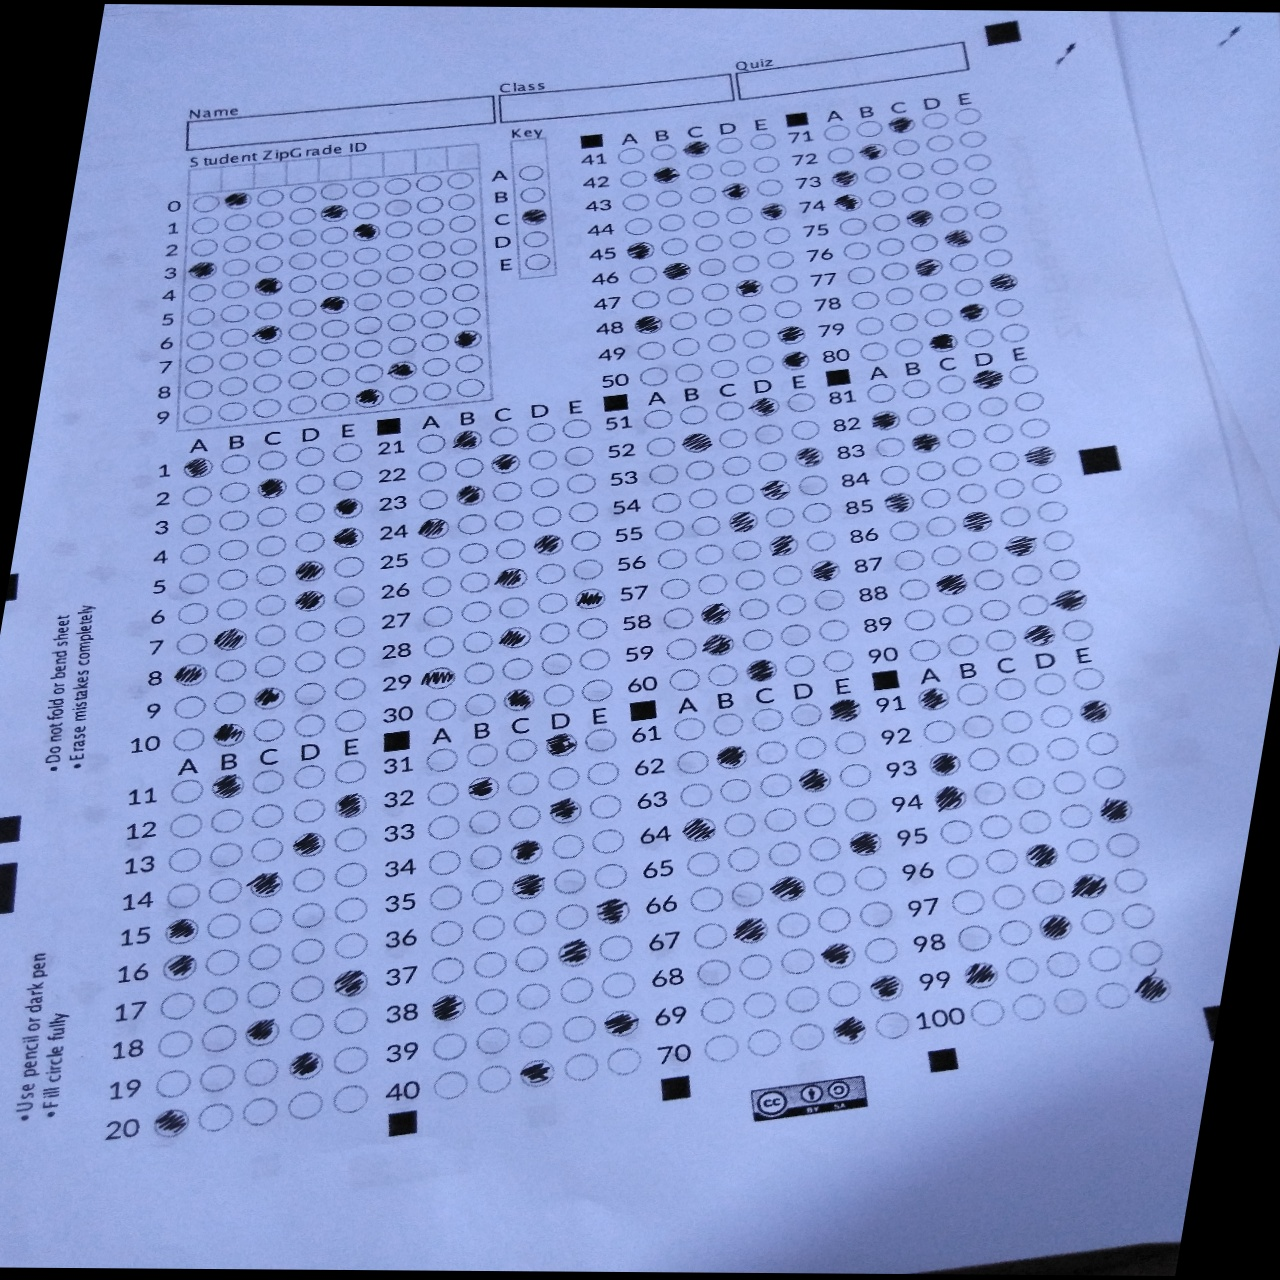not-c: (1081, 942, 1129, 975), (961, 998, 1008, 1030), (1125, 937, 1173, 968), (1085, 980, 1133, 1012), (1002, 990, 1050, 1022), (688, 958, 735, 989), (952, 922, 999, 954), (501, 802, 549, 832), (282, 973, 331, 1003), (693, 994, 741, 1024), (734, 988, 782, 1019), (776, 983, 824, 1014), (821, 976, 869, 1007), (1046, 987, 1094, 1017), (693, 1033, 741, 1063), (738, 1028, 787, 1058), (468, 912, 515, 942), (462, 878, 509, 908), (463, 842, 510, 872), (510, 944, 557, 974), (284, 938, 331, 968), (329, 1006, 376, 1036), (602, 1046, 649, 1076), (512, 1019, 559, 1049), (557, 1014, 604, 1044), (200, 911, 247, 941), (240, 942, 287, 973), (869, 1012, 915, 1042), (1114, 899, 1160, 930), (1036, 949, 1083, 980), (771, 908, 818, 939), (801, 835, 847, 865), (1065, 663, 1112, 694), (501, 770, 549, 799), (423, 919, 469, 949), (467, 951, 512, 981), (429, 1069, 475, 1099), (719, 843, 764, 873), (757, 804, 803, 835), (546, 866, 593, 896), (544, 832, 591, 862), (470, 1026, 517, 1055), (241, 980, 288, 1009), (152, 1028, 199, 1057), (327, 1084, 374, 1114), (238, 1058, 285, 1088), (238, 1097, 285, 1126), (280, 1012, 327, 1041), (325, 932, 372, 961), (557, 1050, 604, 1080), (155, 990, 202, 1020), (806, 869, 853, 898), (855, 899, 901, 928), (776, 945, 821, 975), (1099, 832, 1148, 860), (783, 1022, 829, 1051), (587, 825, 633, 855), (508, 907, 553, 937), (510, 982, 556, 1012), (469, 986, 515, 1015), (198, 1022, 244, 1051), (149, 1069, 195, 1098), (195, 1103, 240, 1132), (282, 1091, 328, 1121), (326, 1046, 372, 1075), (595, 934, 641, 964), (552, 975, 598, 1005), (241, 907, 287, 937), (199, 948, 245, 978), (1075, 908, 1121, 938), (716, 809, 762, 838), (761, 838, 806, 867), (810, 905, 856, 934), (798, 798, 844, 828), (860, 935, 906, 965), (847, 863, 893, 892), (658, 667, 707, 694), (588, 862, 635, 890), (583, 794, 629, 822), (549, 901, 595, 930), (427, 1032, 474, 1060), (424, 955, 471, 983), (195, 1064, 241, 1092), (284, 901, 331, 930), (1060, 836, 1107, 864), (676, 851, 723, 879), (1109, 867, 1156, 896), (1009, 808, 1056, 836), (1024, 879, 1071, 907), (992, 919, 1039, 947), (933, 819, 980, 847), (944, 888, 990, 917), (197, 983, 241, 1013), (329, 896, 375, 924), (598, 972, 644, 1000), (838, 794, 884, 822), (686, 921, 731, 949), (683, 885, 729, 913), (1054, 799, 1099, 828), (978, 846, 1023, 874), (974, 813, 1020, 842), (731, 953, 777, 981), (690, 958, 736, 986), (471, 1064, 516, 1092), (986, 883, 1032, 910), (933, 852, 979, 879), (722, 881, 768, 908), (1001, 954, 1040, 986), (204, 806, 248, 833), (422, 779, 467, 806), (961, 745, 1005, 772), (1008, 771, 1051, 798), (1041, 735, 1084, 762), (1081, 729, 1124, 756), (806, 588, 850, 615), (658, 636, 701, 663), (979, 627, 1022, 654), (799, 527, 843, 554), (904, 638, 947, 665), (422, 747, 467, 772), (162, 847, 206, 873), (331, 826, 375, 852), (246, 802, 291, 828), (464, 809, 509, 835), (542, 767, 586, 792), (461, 741, 505, 767), (206, 840, 248, 867), (583, 760, 625, 787), (1036, 703, 1078, 730), (753, 772, 795, 799), (751, 740, 794, 767), (790, 735, 832, 762), (831, 729, 873, 756), (835, 762, 877, 789), (1001, 738, 1043, 765), (995, 706, 1037, 733), (990, 675, 1033, 702), (1029, 670, 1071, 697), (1089, 763, 1131, 790), (672, 748, 714, 775), (712, 777, 754, 804), (707, 712, 749, 738), (692, 571, 734, 598), (737, 626, 779, 653), (772, 622, 815, 649), (971, 597, 1013, 624), (937, 601, 979, 628), (899, 604, 941, 631), (798, 501, 840, 527), (792, 470, 835, 497), (707, 659, 747, 687), (166, 812, 210, 838), (425, 883, 469, 908), (951, 681, 994, 707), (815, 618, 858, 644), (653, 605, 696, 631), (942, 632, 986, 658), (787, 702, 828, 729), (919, 719, 960, 745), (969, 779, 1010, 806), (668, 715, 709, 742), (694, 573, 735, 600), (821, 646, 862, 673), (1058, 615, 1099, 642), (782, 653, 823, 680), (1037, 527, 1078, 554), (163, 884, 207, 908), (583, 729, 627, 754), (502, 738, 546, 763), (425, 849, 468, 874), (748, 708, 790, 734), (958, 713, 1000, 738), (675, 782, 717, 808), (654, 576, 696, 601), (247, 769, 291, 794), (287, 869, 331, 893), (205, 878, 248, 903), (245, 838, 288, 863), (332, 862, 375, 886), (287, 797, 331, 822), (502, 771, 545, 796), (423, 816, 467, 840), (1049, 768, 1090, 794), (679, 457, 720, 483), (728, 566, 769, 592), (715, 454, 756, 479), (757, 505, 799, 530), (1012, 593, 1051, 619), (1043, 557, 1083, 583), (682, 484, 722, 510), (734, 595, 774, 621), (768, 563, 808, 588), (331, 584, 372, 608), (566, 529, 607, 553), (490, 509, 531, 533), (489, 537, 530, 561), (525, 475, 566, 499), (418, 604, 459, 628), (576, 646, 617, 670), (535, 652, 576, 676), (498, 658, 539, 682), (459, 660, 501, 685), (457, 631, 498, 655), (290, 619, 331, 644), (331, 645, 372, 669), (579, 678, 620, 702), (250, 622, 291, 647), (169, 728, 210, 753), (169, 694, 210, 719), (172, 633, 213, 658), (1032, 501, 1073, 525), (652, 545, 693, 570), (685, 513, 726, 538), (719, 481, 760, 505), (753, 449, 794, 474), (771, 593, 812, 618), (332, 554, 372, 579), (420, 697, 459, 722), (532, 592, 572, 617), (212, 658, 252, 682), (213, 597, 253, 621), (726, 537, 765, 561), (486, 481, 527, 504), (568, 557, 610, 580), (563, 499, 604, 523), (527, 504, 568, 527), (452, 542, 493, 565), (454, 571, 495, 594), (538, 682, 579, 706), (573, 617, 614, 640), (458, 692, 499, 715), (496, 595, 537, 619), (533, 620, 574, 644), (456, 600, 497, 624), (290, 714, 331, 737), (290, 648, 331, 672), (291, 682, 332, 706), (332, 676, 373, 700), (329, 615, 370, 639), (168, 779, 209, 803), (290, 764, 331, 788), (332, 760, 373, 783), (248, 655, 290, 679), (250, 593, 291, 617), (207, 690, 248, 714), (170, 602, 211, 626), (939, 399, 978, 423), (530, 561, 570, 585), (422, 633, 462, 656), (329, 709, 369, 733), (250, 719, 290, 742), (640, 435, 678, 459), (948, 454, 986, 478), (897, 577, 934, 601), (873, 434, 911, 458), (926, 543, 964, 567), (641, 407, 679, 431), (563, 474, 604, 496), (522, 422, 560, 445), (413, 459, 451, 483), (692, 542, 727, 567), (644, 463, 682, 486), (986, 449, 1024, 472), (932, 372, 971, 395), (979, 421, 1017, 444), (451, 456, 489, 479), (912, 459, 949, 483), (892, 549, 930, 572), (651, 519, 688, 543), (954, 481, 992, 504), (922, 515, 960, 538), (971, 567, 1008, 591), (750, 422, 788, 445), (974, 395, 1012, 418), (1017, 416, 1055, 440), (864, 382, 901, 406), (713, 427, 750, 450), (455, 512, 493, 535), (918, 485, 956, 508), (649, 491, 686, 515), (992, 477, 1028, 501), (966, 538, 1002, 561), (787, 418, 823, 442), (941, 427, 978, 450), (413, 431, 450, 454), (560, 445, 598, 468), (524, 449, 561, 471), (560, 417, 598, 440), (416, 488, 454, 510), (418, 576, 456, 598), (886, 519, 924, 542), (1028, 472, 1065, 495), (996, 505, 1034, 527), (1009, 561, 1047, 584), (1010, 390, 1048, 413), (899, 377, 937, 400), (903, 404, 940, 427), (675, 406, 713, 428), (292, 445, 328, 468), (331, 470, 367, 492), (485, 425, 522, 448), (416, 546, 452, 568), (876, 464, 912, 486), (1005, 362, 1041, 384), (784, 392, 821, 414), (710, 401, 747, 423), (329, 440, 365, 462), (254, 564, 290, 586), (178, 543, 213, 565), (252, 506, 288, 527), (217, 482, 253, 503), (248, 396, 282, 418), (181, 485, 215, 508), (382, 241, 417, 263), (292, 474, 327, 495), (215, 539, 250, 560), (217, 510, 252, 531), (176, 573, 211, 594), (293, 503, 328, 524), (292, 531, 327, 552), (452, 377, 486, 399), (217, 302, 251, 324), (667, 309, 701, 331), (735, 302, 769, 324), (893, 159, 927, 181), (380, 176, 415, 196), (411, 175, 447, 195), (443, 170, 478, 190), (418, 382, 454, 402), (352, 338, 387, 358), (383, 290, 418, 309), (417, 333, 452, 353), (414, 285, 449, 305), (411, 218, 447, 238), (316, 271, 352, 291), (182, 331, 217, 350), (189, 216, 224, 236), (248, 349, 284, 369), (284, 229, 319, 248), (254, 535, 290, 554), (215, 568, 250, 588), (178, 515, 213, 535), (770, 299, 805, 319), (663, 286, 699, 306), (660, 237, 695, 257), (687, 184, 722, 204), (951, 108, 986, 128), (931, 181, 966, 200), (918, 113, 953, 132), (250, 373, 284, 393), (188, 195, 222, 215), (252, 188, 286, 207), (285, 186, 319, 206), (316, 183, 350, 203), (348, 179, 382, 199), (520, 252, 554, 272), (518, 230, 552, 250), (515, 185, 549, 205), (515, 162, 549, 182), (447, 192, 481, 212), (418, 356, 452, 376), (352, 362, 386, 382), (350, 314, 384, 334), (352, 291, 386, 311), (348, 200, 382, 220), (386, 336, 420, 356), (384, 312, 418, 332), (384, 265, 418, 285), (381, 220, 415, 240), (417, 309, 451, 329), (414, 263, 448, 282), (416, 239, 450, 259), (413, 195, 447, 215), (450, 306, 484, 326), (450, 282, 484, 302), (448, 259, 482, 279), (445, 238, 479, 258), (445, 215, 479, 234), (316, 248, 350, 268), (316, 226, 350, 246), (386, 383, 420, 403), (216, 278, 250, 298), (222, 211, 256, 231), (181, 406, 215, 425), (181, 379, 215, 399), (182, 354, 216, 374), (184, 308, 218, 328), (185, 284, 219, 304), (186, 238, 220, 258), (252, 300, 286, 320), (251, 256, 285, 275), (252, 231, 286, 251), (215, 401, 248, 421), (216, 376, 250, 396), (217, 327, 251, 347), (284, 394, 318, 414), (319, 392, 353, 411), (318, 366, 352, 386), (284, 321, 318, 341), (256, 451, 290, 471), (218, 454, 252, 474), (790, 164, 824, 184), (614, 147, 648, 166), (715, 157, 749, 177), (710, 136, 744, 156), (764, 250, 798, 270), (760, 225, 794, 245), (753, 177, 787, 197), (667, 336, 701, 356), (651, 190, 685, 210), (646, 143, 680, 163), (707, 358, 741, 377), (704, 333, 738, 353), (700, 307, 734, 327), (697, 282, 731, 302), (694, 257, 728, 277), (692, 234, 726, 254), (688, 210, 722, 230), (685, 162, 719, 182), (738, 327, 772, 347), (743, 354, 777, 374), (728, 253, 762, 273), (726, 229, 760, 248), (847, 291, 881, 311), (844, 266, 878, 286), (836, 217, 870, 237), (819, 123, 853, 143), (638, 367, 672, 387), (634, 342, 668, 362), (628, 290, 662, 309), (626, 265, 660, 285), (621, 217, 655, 237), (617, 192, 651, 212), (617, 168, 651, 188), (959, 327, 993, 347), (996, 324, 1030, 343), (857, 340, 891, 360), (852, 316, 886, 336), (908, 231, 942, 251), (890, 138, 924, 158), (952, 277, 986, 297), (947, 252, 981, 272), (937, 204, 971, 224), (927, 156, 961, 176), (920, 132, 954, 152), (992, 297, 1026, 316), (980, 247, 1014, 267), (975, 224, 1009, 244), (966, 176, 1000, 196), (960, 151, 994, 171), (955, 129, 989, 149), (888, 311, 922, 331), (879, 260, 913, 280), (874, 236, 908, 256), (865, 188, 899, 207), (852, 120, 886, 139), (859, 165, 893, 185), (922, 307, 956, 327), (383, 197, 417, 217), (767, 275, 802, 294), (915, 282, 951, 301), (352, 268, 384, 288), (349, 246, 382, 266), (452, 353, 485, 373), (220, 258, 253, 278), (220, 236, 253, 256), (287, 207, 320, 227), (217, 350, 250, 370), (285, 370, 318, 390), (318, 342, 350, 362), (319, 318, 352, 338), (285, 299, 318, 319), (287, 274, 320, 294), (284, 251, 316, 271), (749, 154, 782, 173), (745, 132, 778, 152), (673, 363, 706, 383), (724, 205, 757, 225), (840, 241, 873, 261), (826, 145, 859, 165), (892, 338, 925, 358), (897, 184, 930, 204), (971, 200, 1003, 220), (883, 285, 915, 305), (870, 212, 903, 232), (287, 345, 320, 365), (252, 211, 286, 230), (655, 213, 688, 232)
taken-c: (1017, 840, 1065, 871), (1065, 871, 1114, 901), (237, 1016, 284, 1047), (1131, 974, 1178, 1005), (843, 829, 890, 859), (956, 960, 1003, 990), (918, 749, 965, 779), (926, 782, 973, 812), (1095, 796, 1142, 826), (282, 1051, 331, 1081), (1032, 913, 1080, 942), (150, 1108, 196, 1138), (765, 874, 812, 904), (817, 941, 864, 971), (1074, 696, 1121, 726), (908, 685, 955, 714), (825, 696, 872, 726), (515, 1058, 560, 1088), (826, 1016, 872, 1046), (865, 973, 911, 1002), (590, 897, 636, 925), (508, 873, 554, 901), (329, 969, 376, 998), (156, 953, 203, 981), (286, 831, 333, 859), (425, 993, 471, 1021), (552, 939, 598, 967), (728, 917, 774, 945), (159, 917, 205, 945), (245, 871, 290, 899), (1017, 622, 1062, 651), (794, 765, 838, 794), (331, 794, 376, 821), (598, 1012, 644, 1039), (930, 571, 975, 598), (544, 797, 588, 824), (506, 838, 549, 866), (1050, 587, 1092, 614), (905, 429, 946, 456), (1021, 442, 1063, 468), (1001, 532, 1041, 559), (958, 508, 998, 535), (542, 733, 583, 758), (418, 666, 459, 692), (804, 557, 845, 583), (495, 625, 535, 651), (501, 686, 540, 712), (210, 722, 251, 747), (250, 686, 291, 710), (169, 662, 210, 687), (207, 774, 248, 798), (986, 270, 1024, 295), (924, 331, 964, 355), (462, 777, 503, 801), (680, 817, 720, 840), (742, 658, 782, 681), (713, 745, 753, 769), (879, 491, 919, 515), (291, 590, 329, 613), (292, 559, 331, 583), (449, 428, 486, 451), (451, 484, 489, 508), (726, 510, 763, 533), (969, 368, 1007, 392), (530, 533, 568, 556), (414, 517, 452, 539), (697, 633, 736, 655), (954, 301, 993, 324), (212, 628, 250, 651), (181, 456, 218, 478), (572, 587, 610, 610), (855, 141, 892, 163), (903, 207, 940, 230), (757, 479, 796, 501), (493, 567, 532, 588), (828, 192, 866, 213), (331, 497, 367, 519), (254, 477, 291, 499), (697, 602, 734, 625), (352, 387, 389, 408), (486, 452, 524, 474), (331, 527, 368, 549), (765, 535, 803, 556), (939, 227, 976, 248), (825, 168, 863, 189), (867, 410, 903, 433), (774, 324, 810, 345), (733, 278, 769, 299), (779, 350, 815, 372), (911, 256, 946, 277), (886, 114, 919, 136), (679, 433, 715, 452), (622, 240, 658, 260), (649, 165, 685, 185), (251, 277, 286, 297), (792, 447, 828, 467), (745, 397, 781, 417), (757, 200, 790, 222), (219, 191, 253, 211), (632, 315, 666, 335), (661, 261, 695, 281), (717, 181, 751, 200), (386, 360, 420, 380), (316, 294, 350, 314), (185, 260, 219, 280), (316, 202, 350, 222), (350, 223, 384, 243), (680, 139, 713, 159), (250, 324, 282, 343), (451, 329, 485, 348), (515, 207, 549, 226)
